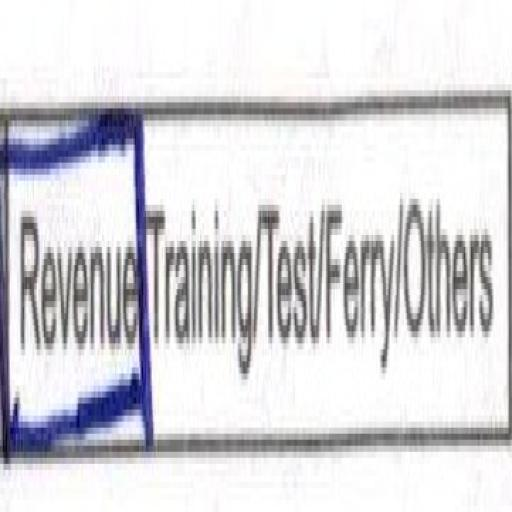check: (0, 65, 152, 512)
